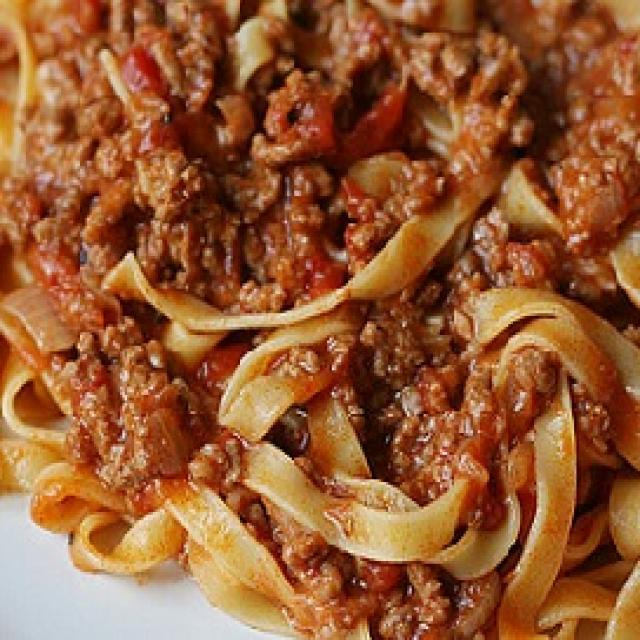Pasta al ragu: (10, 3, 614, 597)
